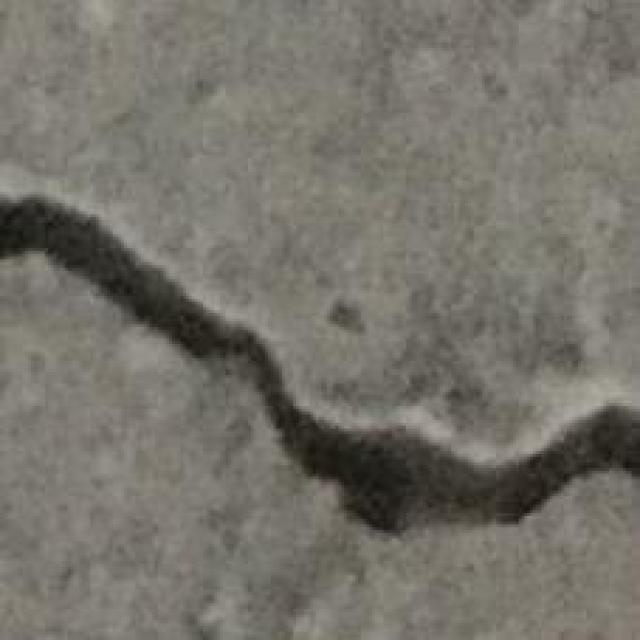Crack: (0, 189, 640, 548)
